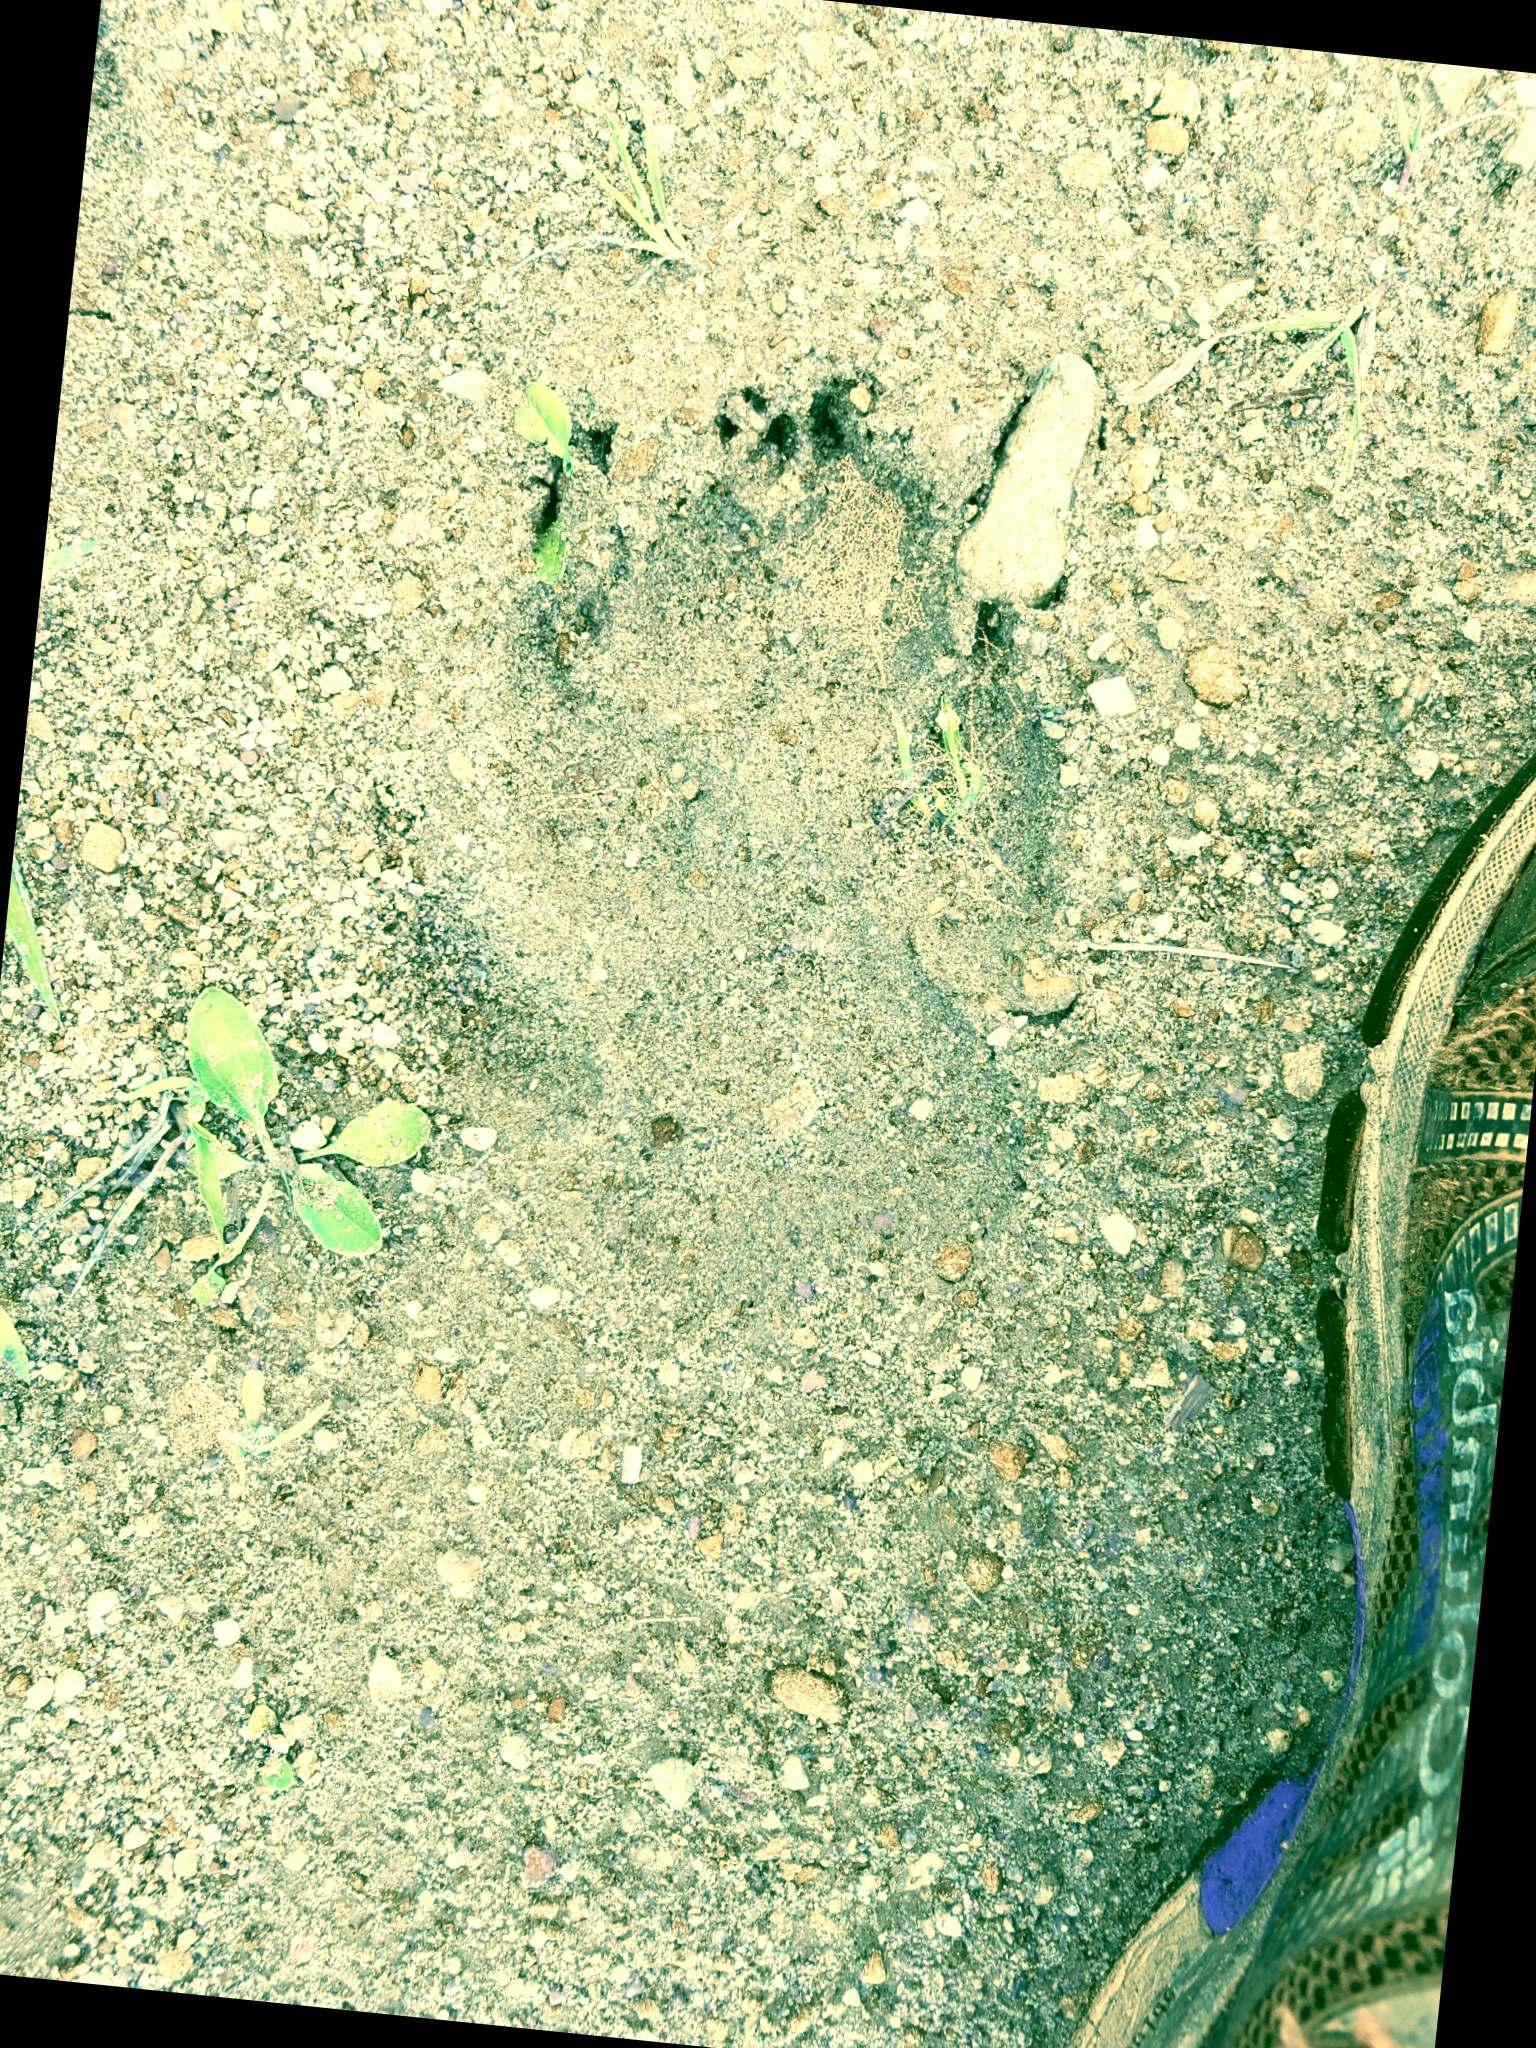ecureuil: (549, 264, 1079, 1127), (471, 1198, 1008, 1838), (5, 758, 158, 1458)
